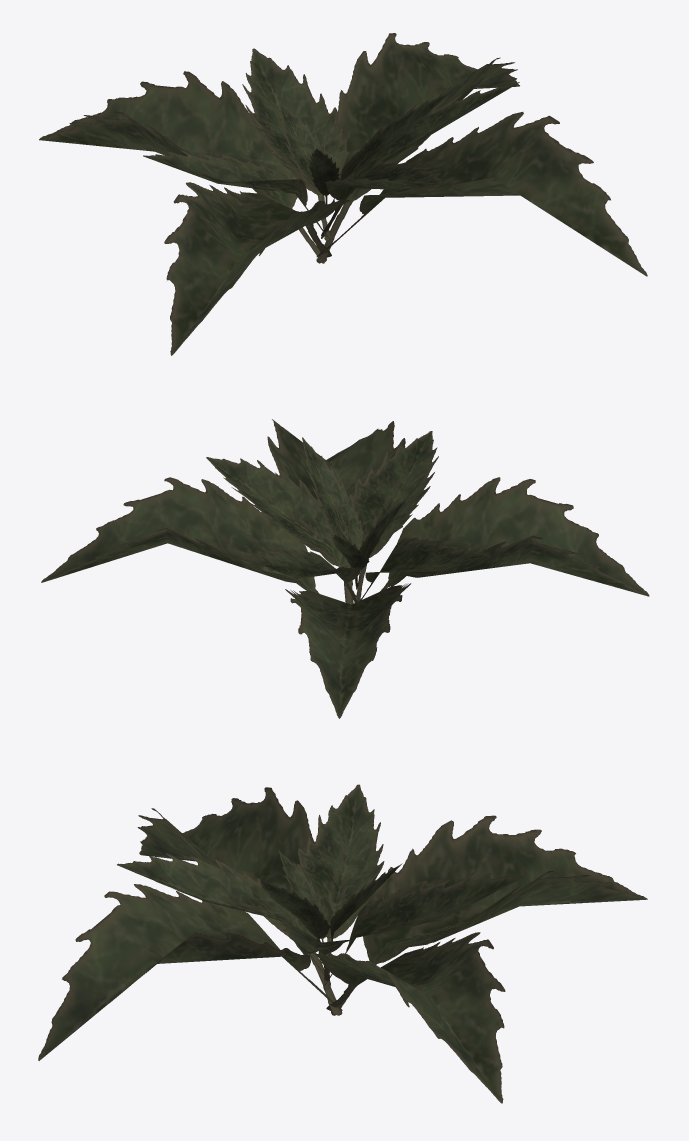
File: SM_weed_lrg_01.fbx
3 views of the same model, one above another, from view 1: azimuth 30°, elevation 25°; view 2: azimuth 150°, elevation 25°; view 3: azimuth 270°, elevation 25° (orthographic). The views are drawn at different scales.
Visible parts, largest first — view 1: SM_weed_lrg_01; view 2: SM_weed_lrg_01; view 3: SM_weed_lrg_01.
Boxes of the visible parts, <box> form: SM_weed_lrg_01: <box>39,33,647,355</box>; SM_weed_lrg_01: <box>41,419,649,718</box>; SM_weed_lrg_01: <box>38,784,647,1103</box>.
Bounding box in the file's own units: 45.94 × 44.57 × 15.13.
